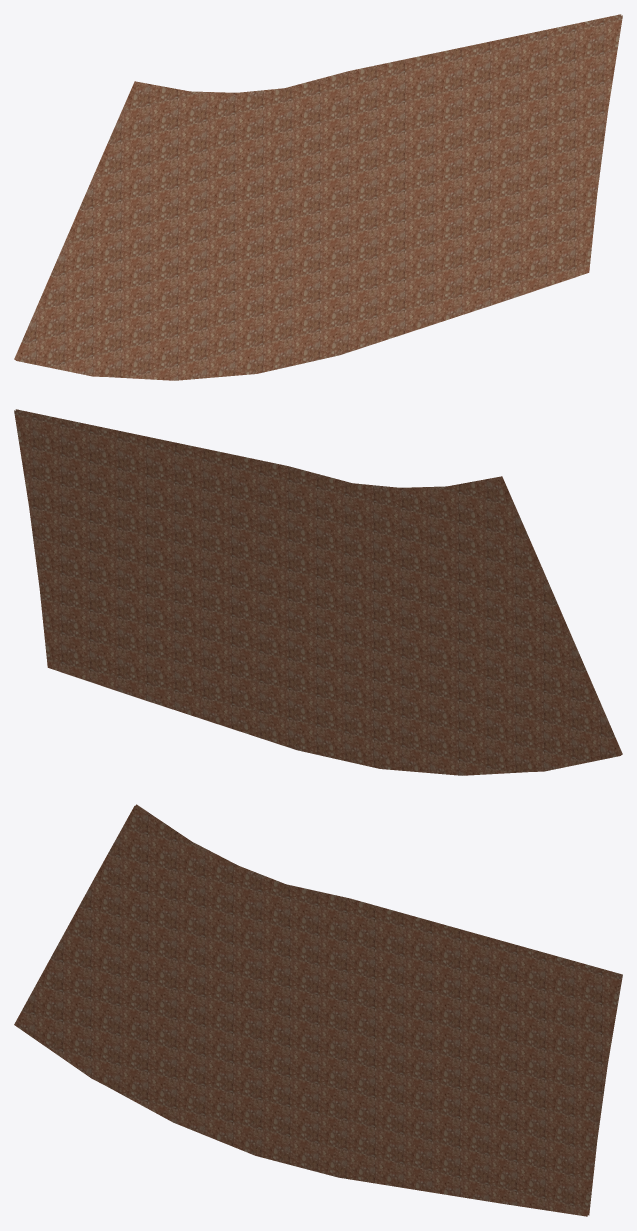
Rendered from floor_1.obj.
3 renders of one model, top to bottom at view 1: azimuth 30°, elevation 25°; view 2: azimuth 150°, elevation 25°; view 3: azimuth 330°, elevation 25°, orthographic.
Parts seen in each view (by area): view 1: floor_1; view 2: floor_1; view 3: floor_1.
Boxes of the visible parts, box(x1,y1,x2,y2) form: floor_1: box(14, 14, 622, 380); floor_1: box(14, 409, 622, 775); floor_1: box(14, 804, 622, 1216).
Bounding box in the file's own units: 21.41 × 10.86 × 0.1.
